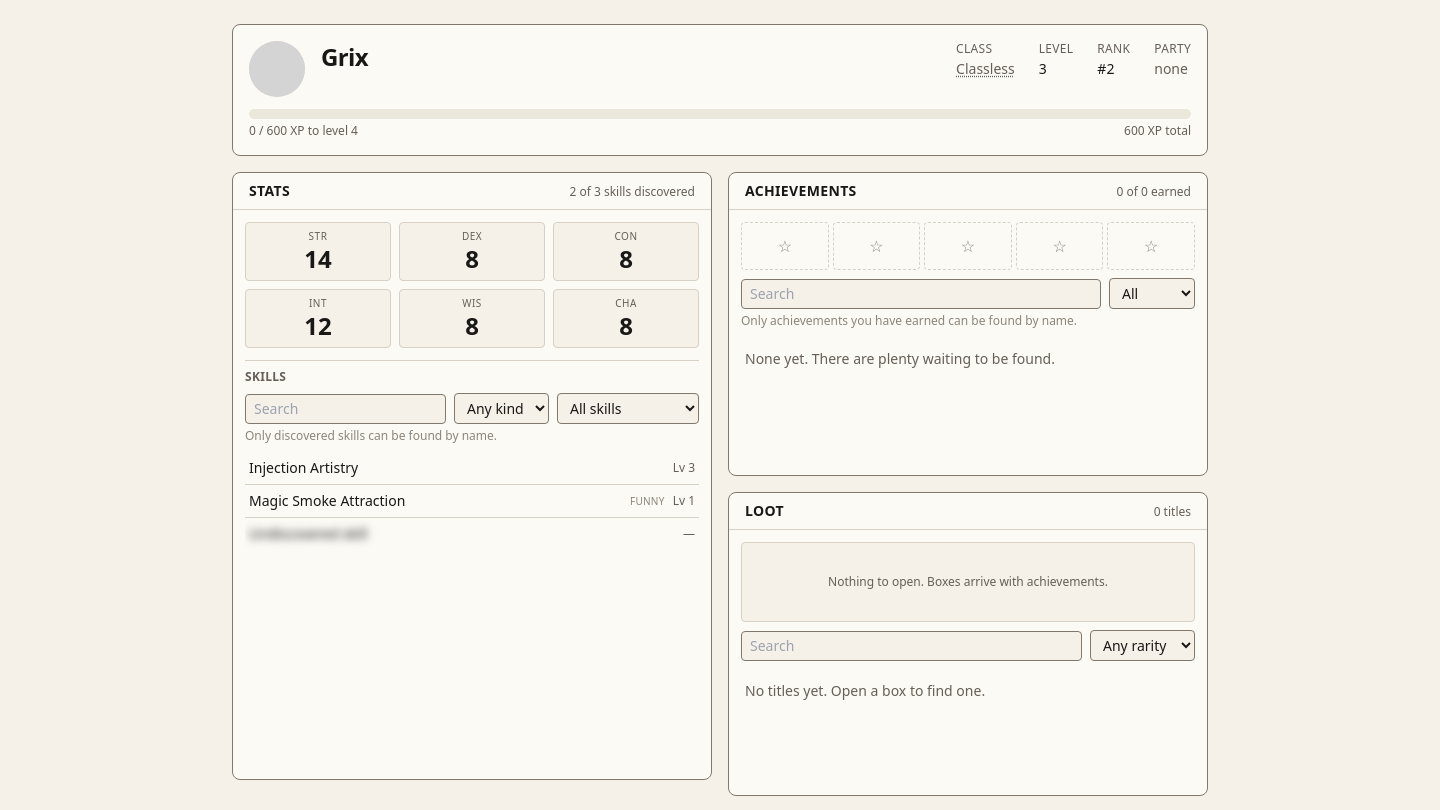
Test: choosing a class › offers only the classes the server sent
Click the button "Classless".
click(985, 69)  # box [956,59,1015,79]
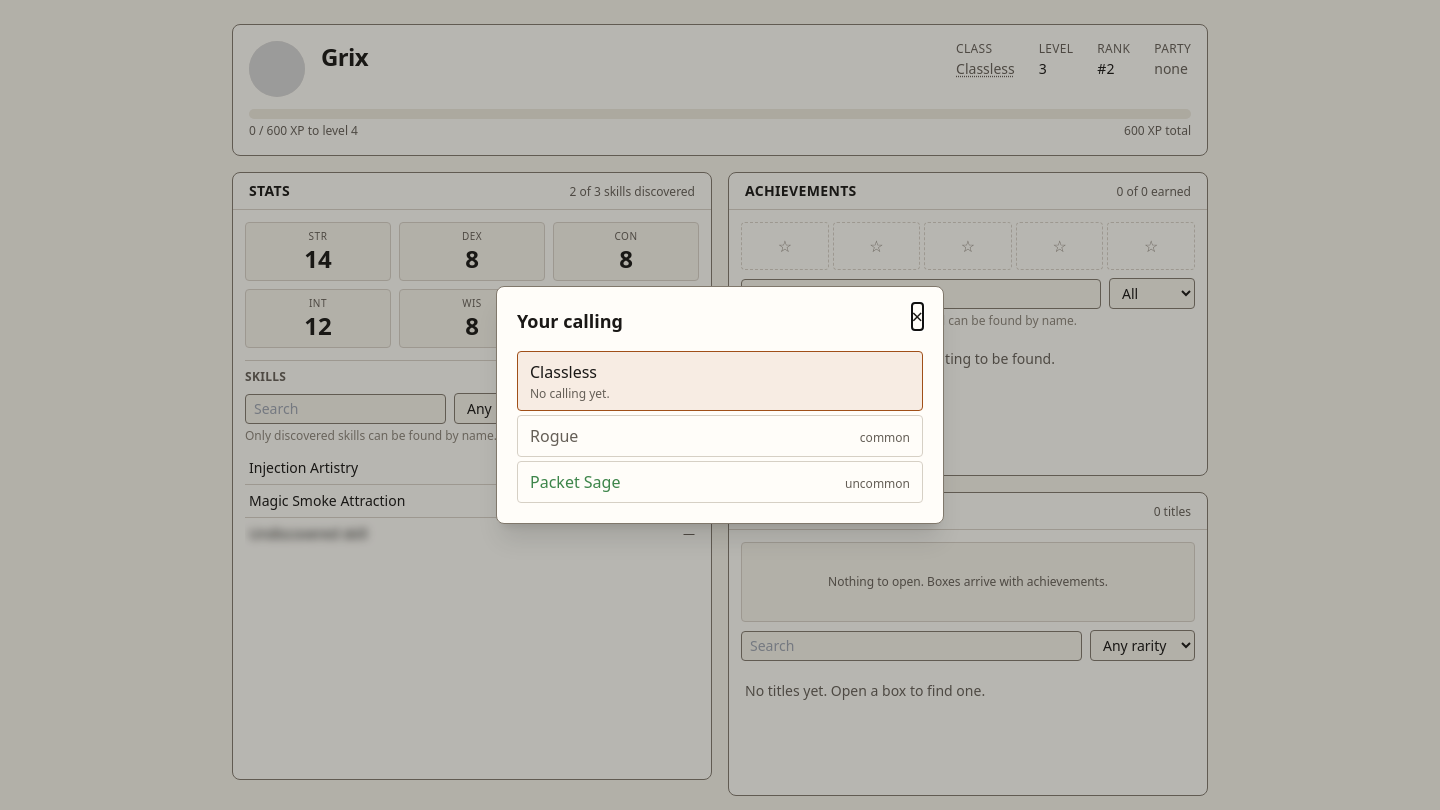
Expected: the button "Classless No calling yet." is shown, [517,351,923,411]
